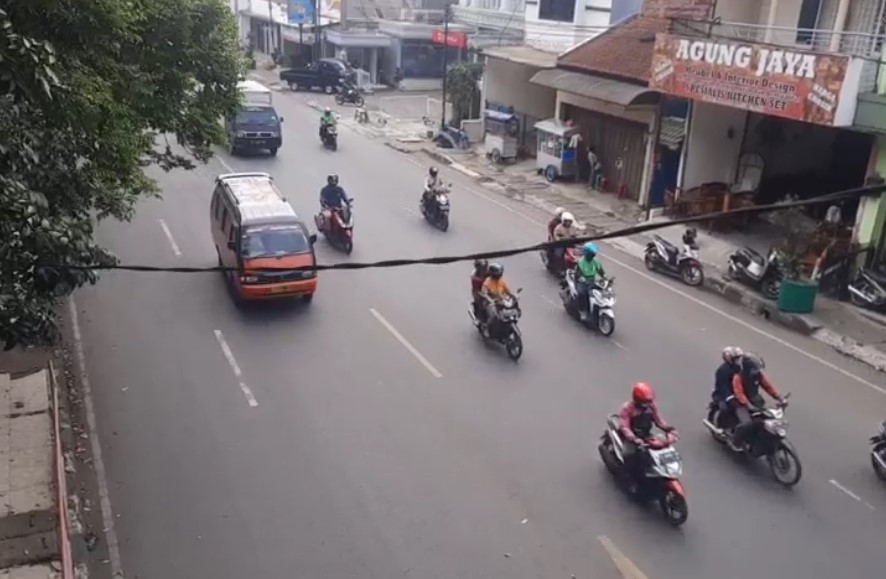mobil: (207, 173, 317, 305)
motor: (707, 345, 804, 491), (600, 381, 693, 531), (465, 257, 530, 367), (563, 244, 617, 338), (316, 173, 360, 251), (541, 206, 587, 274), (416, 164, 454, 231)
